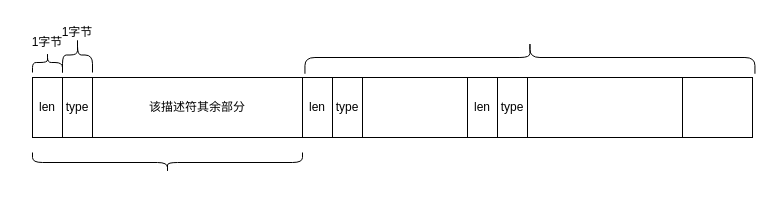
Image size: 772x224. Some labels were removed from this diagram. The shapes that lost their labels are listed below. From the top down, each one's centre as x and y in pixels, then its label:
At (529,57): "其余后续描述符".
At (167,162): "该描述符占 { len } 字节".
